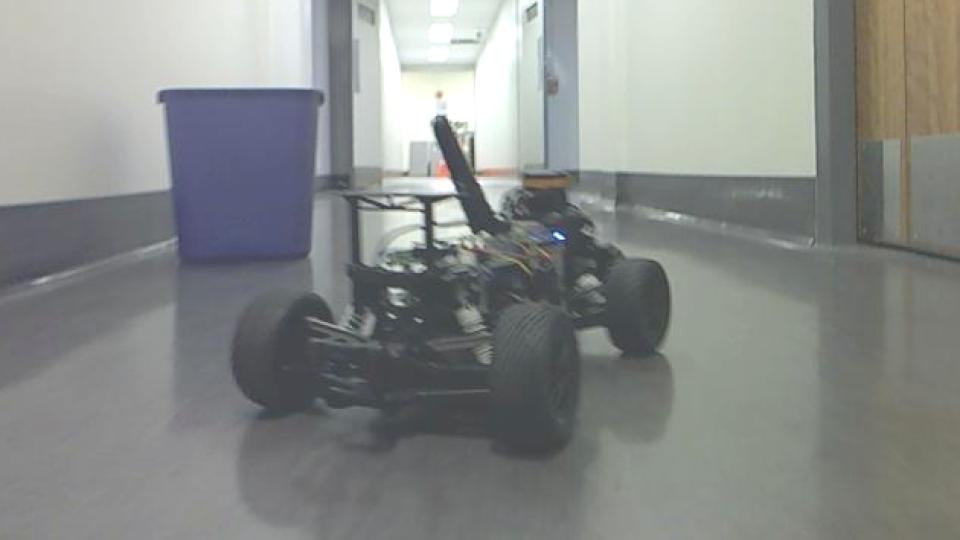car: (227, 111, 675, 456)
